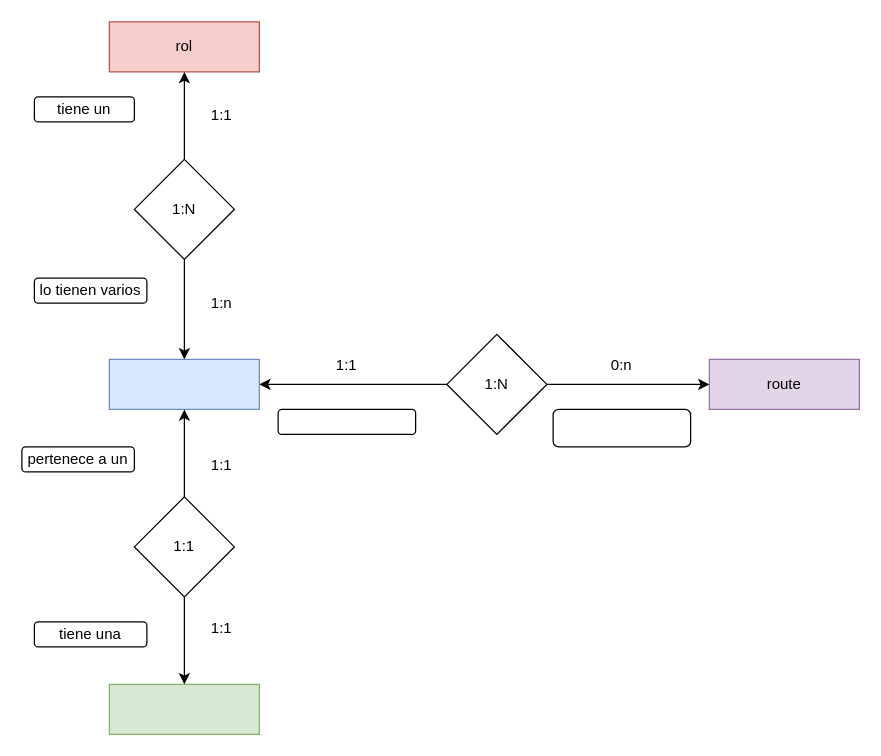
Some shapes in this 881 by 756 pixel diagram are drawn without their labels. The box of each missing label's shape, as (x1, y1, x2, y2) in pixels:
creadas por un: (277, 408, 416, 434)
pueden crear y editar sus: (552, 408, 691, 447)
u _image: (108, 683, 259, 734)
user: (108, 358, 259, 409)
